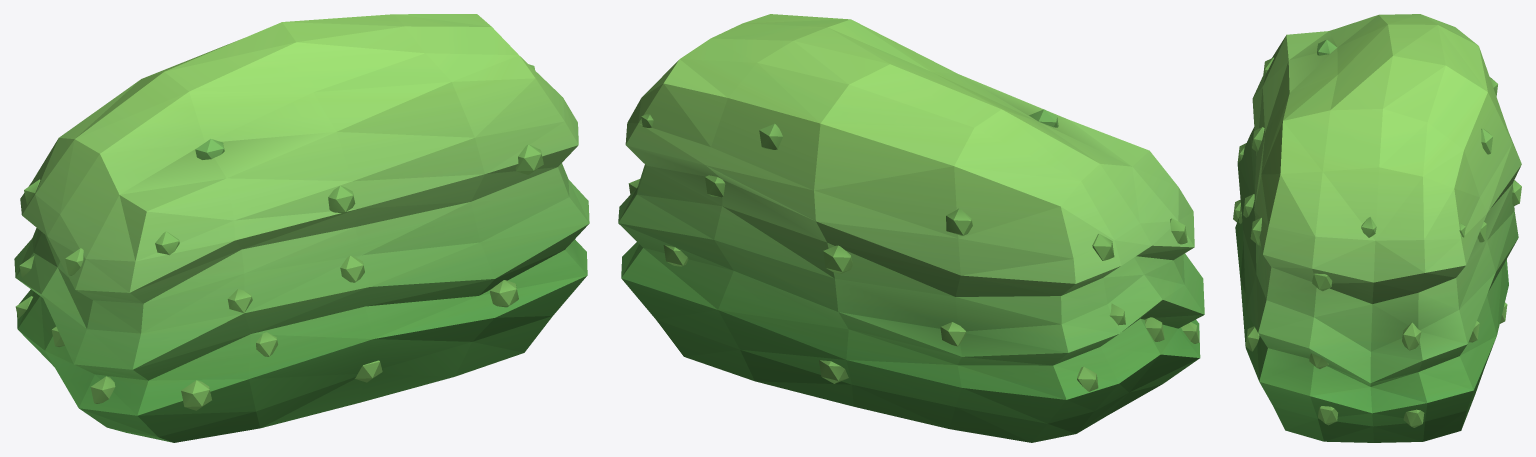
Rendered from bush_mound.glb.
3 renders of one model, left to right at view 1: azimuth 30°, elevation 25°; view 2: azimuth 150°, elevation 25°; view 3: azimuth 270°, elevation 25°, orthographic. The views are drawn at different scales.
Visible parts, largest first — view 1: Bush_1_2_D; view 2: Bush_1_2_D; view 3: Bush_1_2_D.
Boxes of the visible parts, x1,y1,x2,y2 form: Bush_1_2_D: (14,14,589,442); Bush_1_2_D: (618,14,1204,442); Bush_1_2_D: (1233,14,1521,442).
Size of the model in its own units: 1.83 by 1.03 by 0.913.
Materials: 1 (1 with a texture image).
